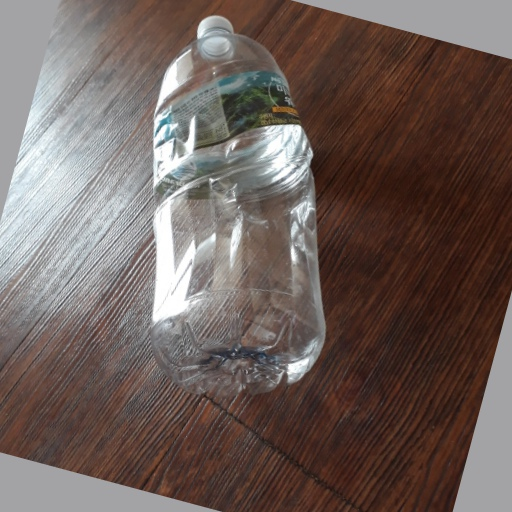Plastic_0: (151, 13, 327, 392)
